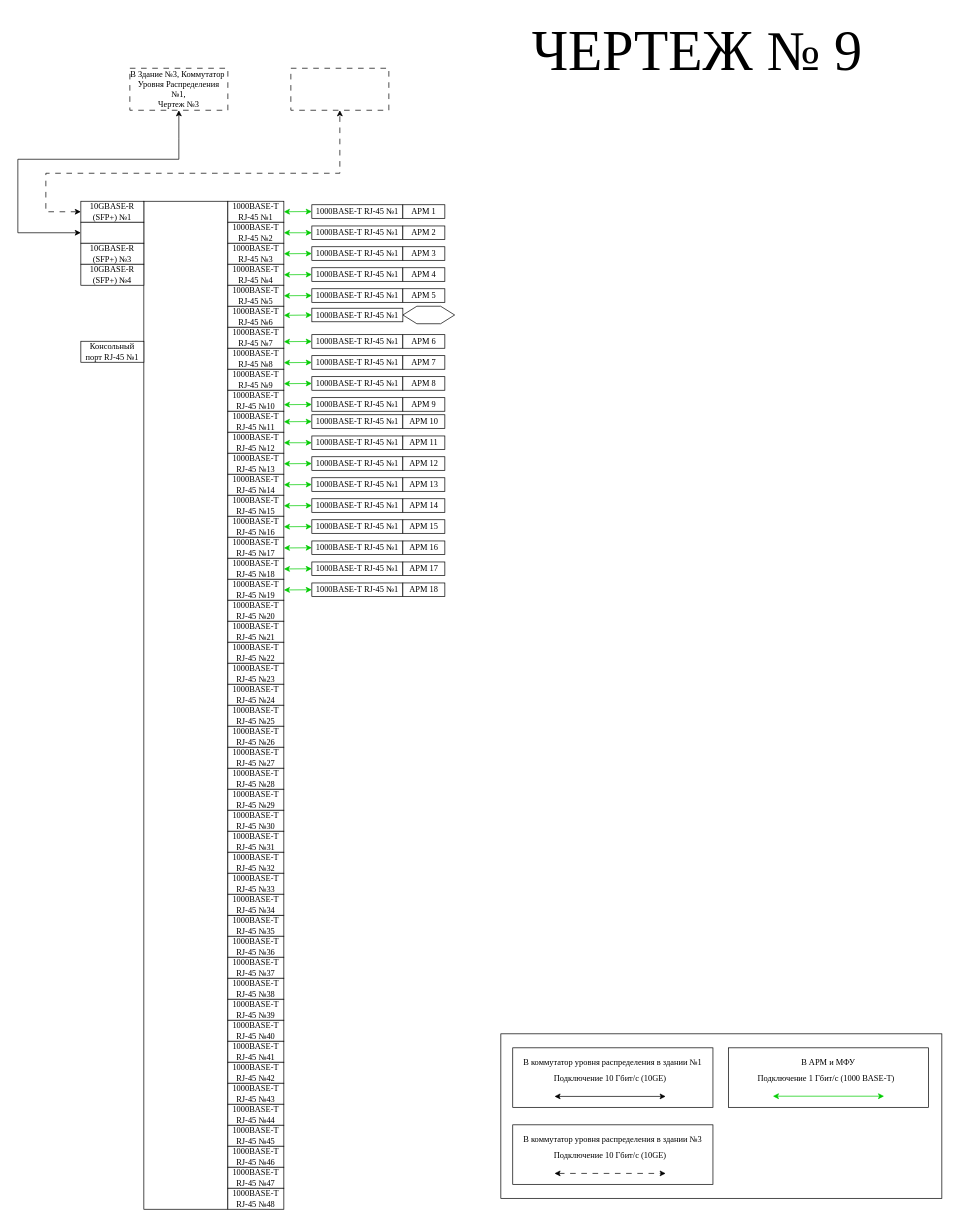
The diagram is 954 pixels wide and 1222 high, and some of its shapes have lost their labels. The shapes that lost their labels are listed below. From the top down, each one's centre as x and y in pixels, then its label:
At (339,89): "В Здание №7, Коммутатор Уровня Распределения №2, Чертеж №7".
At (112,232): "10GBASE-R (SFP+) №2".
At (428,315): "МФУ 1".
At (185,705): "Сетевое Устройство №1 Коммутатор Уровня Доступа №1".
